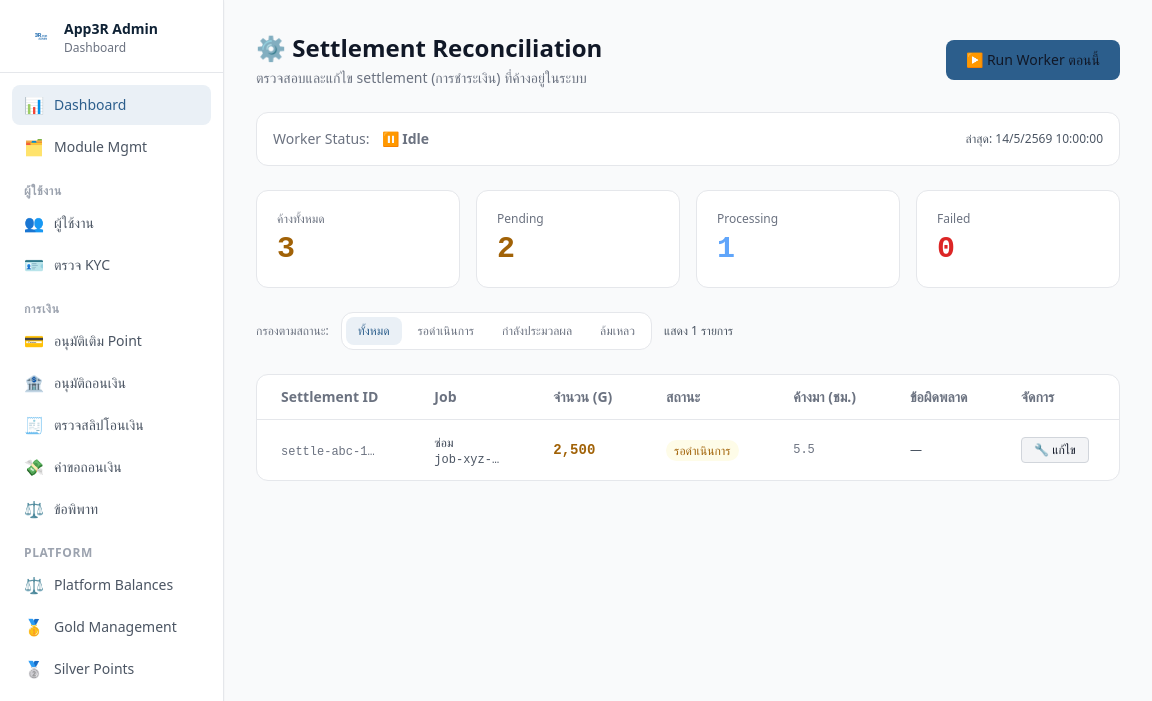
Test: SettlementReconciliationPage — actions › ปิด Resolve Modal เมื่อกด "ยกเลิก"
This screenshot has width=1152, height=701.
What coordinates should you click on to do the following:
click the button "🔧 แก้ไข"
I would click on:
 (1055, 450)
Its box is [1021,437,1089,463].
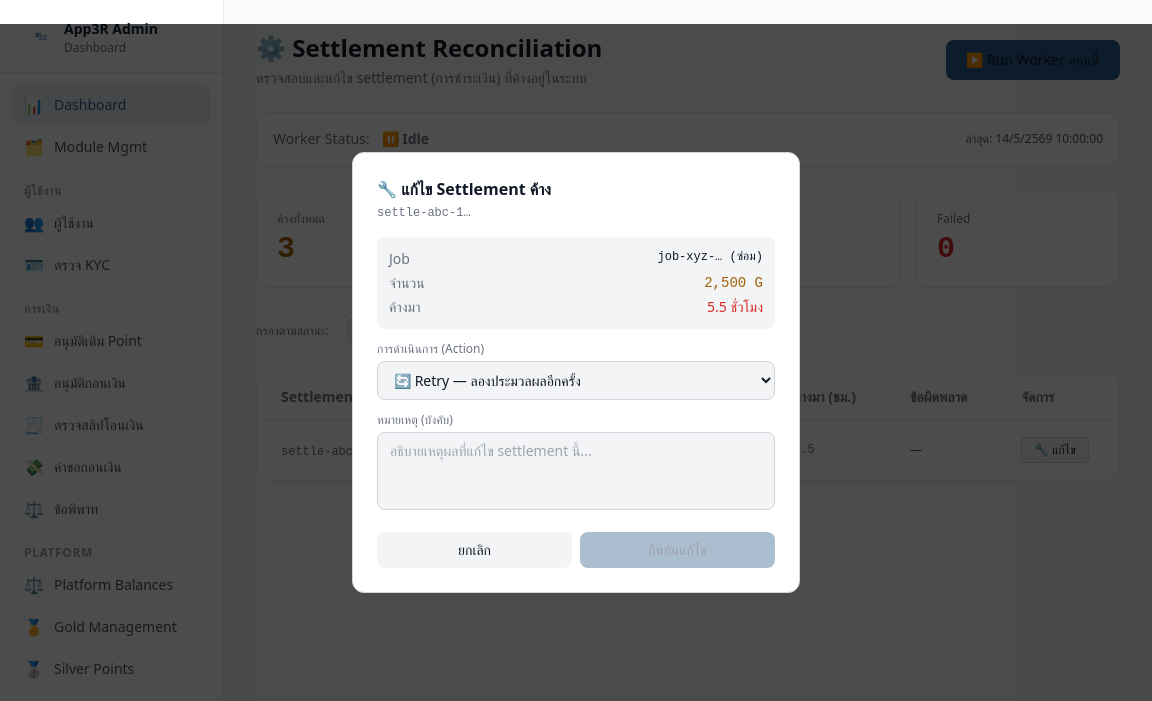
What coordinates should you click on to do the following:
click the button "ยกเลิก"
I would click on:
 (474, 550)
Its box is [377,532,572,568].
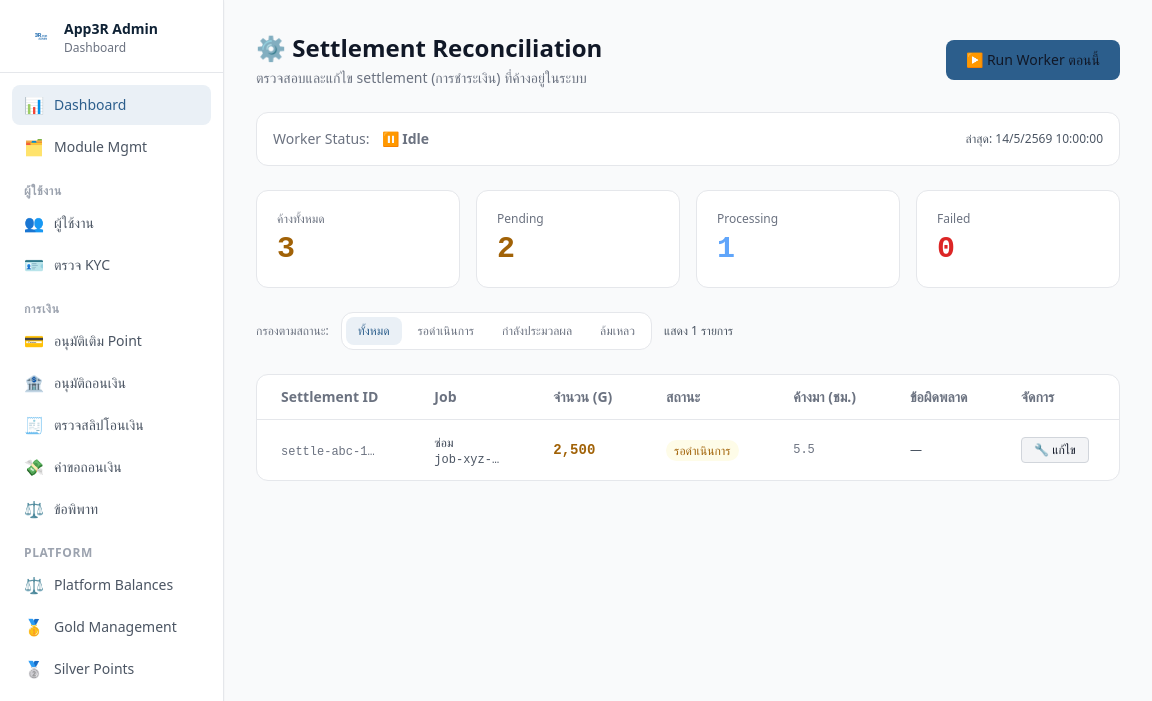
Expected: the heading "🔧 แก้ไข Settlement ค้าง" is gone
